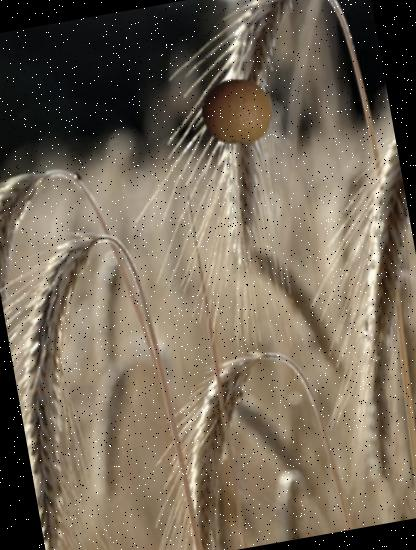Orange: (196, 71, 278, 152)
